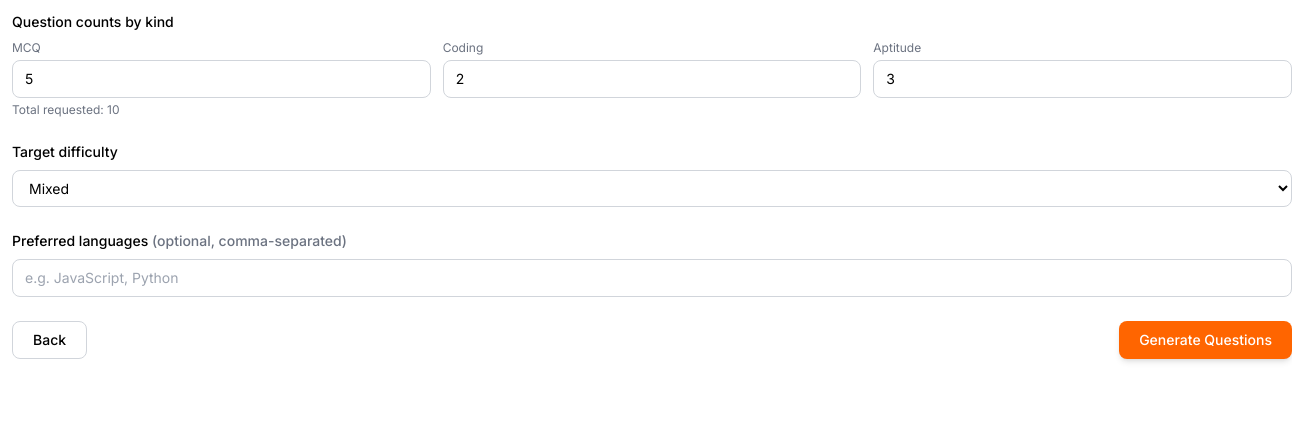
Test: MixConfigStep — descriptive error messages (Req 10.2) › shows a descriptive error when generation fails after retry
Click the button "Generate Questions" at {"x": 1206, "y": 340}, box [1119,321,1292,359]
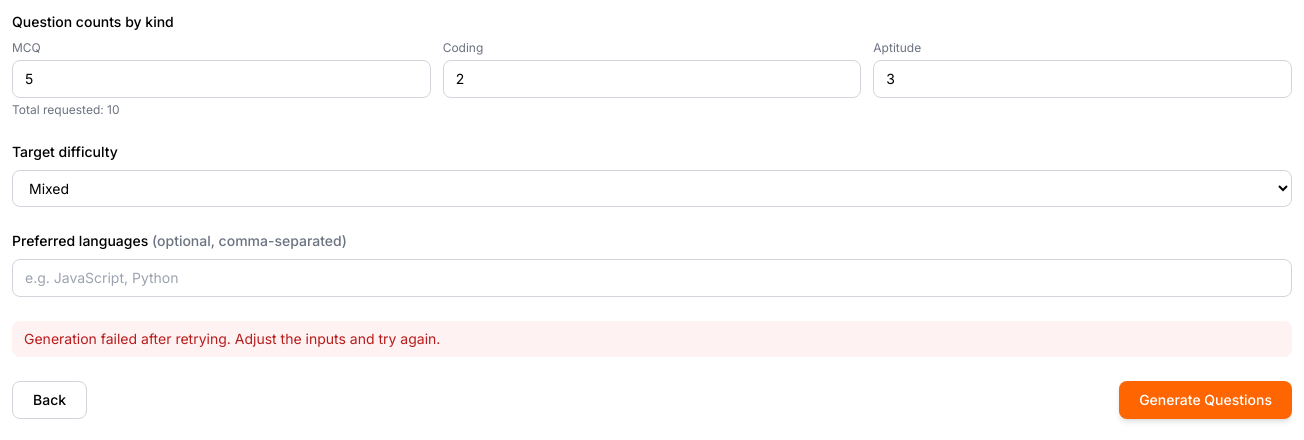
Expected: the message reads "Generation failed after retrying. Adjust the inputs and try again.", [24,330,440,347]
